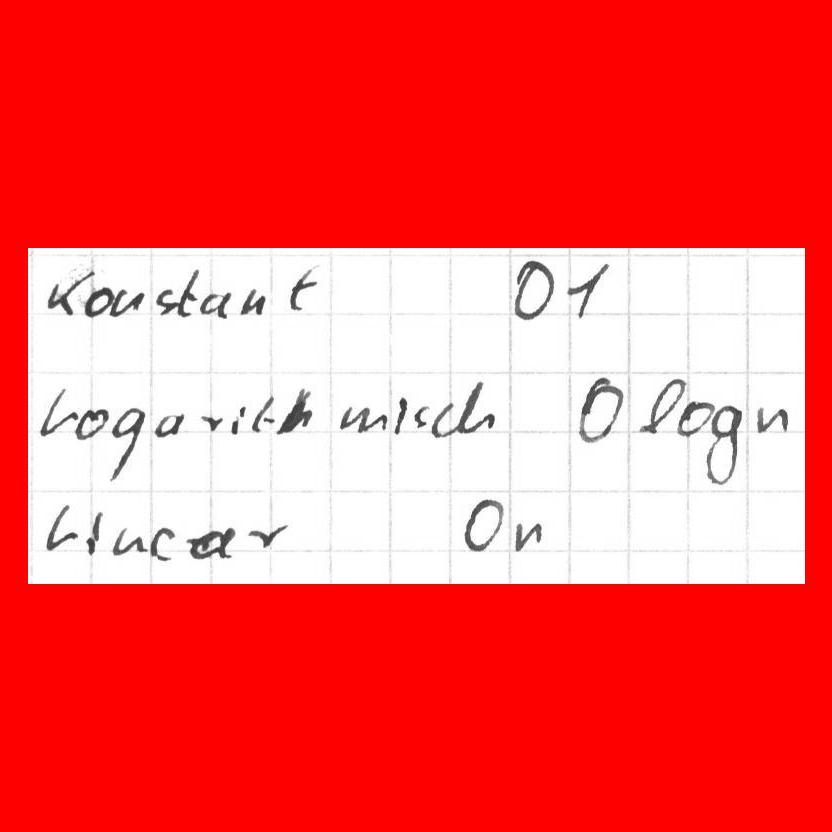Char: (702, 402, 743, 486), (575, 374, 624, 444), (105, 408, 147, 481), (511, 256, 555, 322), (640, 378, 683, 438), (451, 380, 496, 436), (565, 262, 609, 318), (461, 498, 504, 552), (38, 384, 76, 440), (48, 269, 91, 317), (187, 523, 235, 561), (43, 505, 78, 555), (287, 265, 322, 315), (336, 402, 389, 435), (278, 387, 313, 432), (675, 399, 714, 437), (74, 405, 110, 442), (754, 403, 788, 438), (176, 266, 198, 319), (147, 522, 176, 562), (513, 517, 545, 552), (109, 286, 144, 317), (111, 527, 147, 557), (248, 522, 285, 551), (250, 393, 276, 434), (430, 401, 457, 439), (82, 285, 113, 318), (152, 408, 184, 439), (84, 509, 103, 557), (238, 286, 265, 318), (200, 291, 230, 319), (391, 395, 411, 433), (153, 287, 178, 317), (411, 403, 431, 433), (200, 411, 224, 433), (230, 403, 246, 436)
